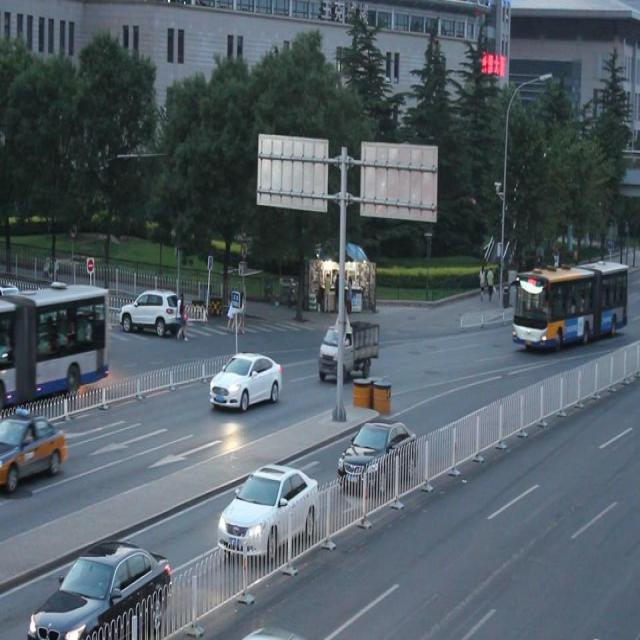bus: (317, 318, 378, 382)
car: (27, 537, 169, 640), (218, 459, 315, 558), (335, 414, 417, 489), (1, 408, 66, 489), (210, 349, 282, 411), (124, 288, 180, 334)
van: (1, 279, 112, 405), (511, 264, 624, 348)
